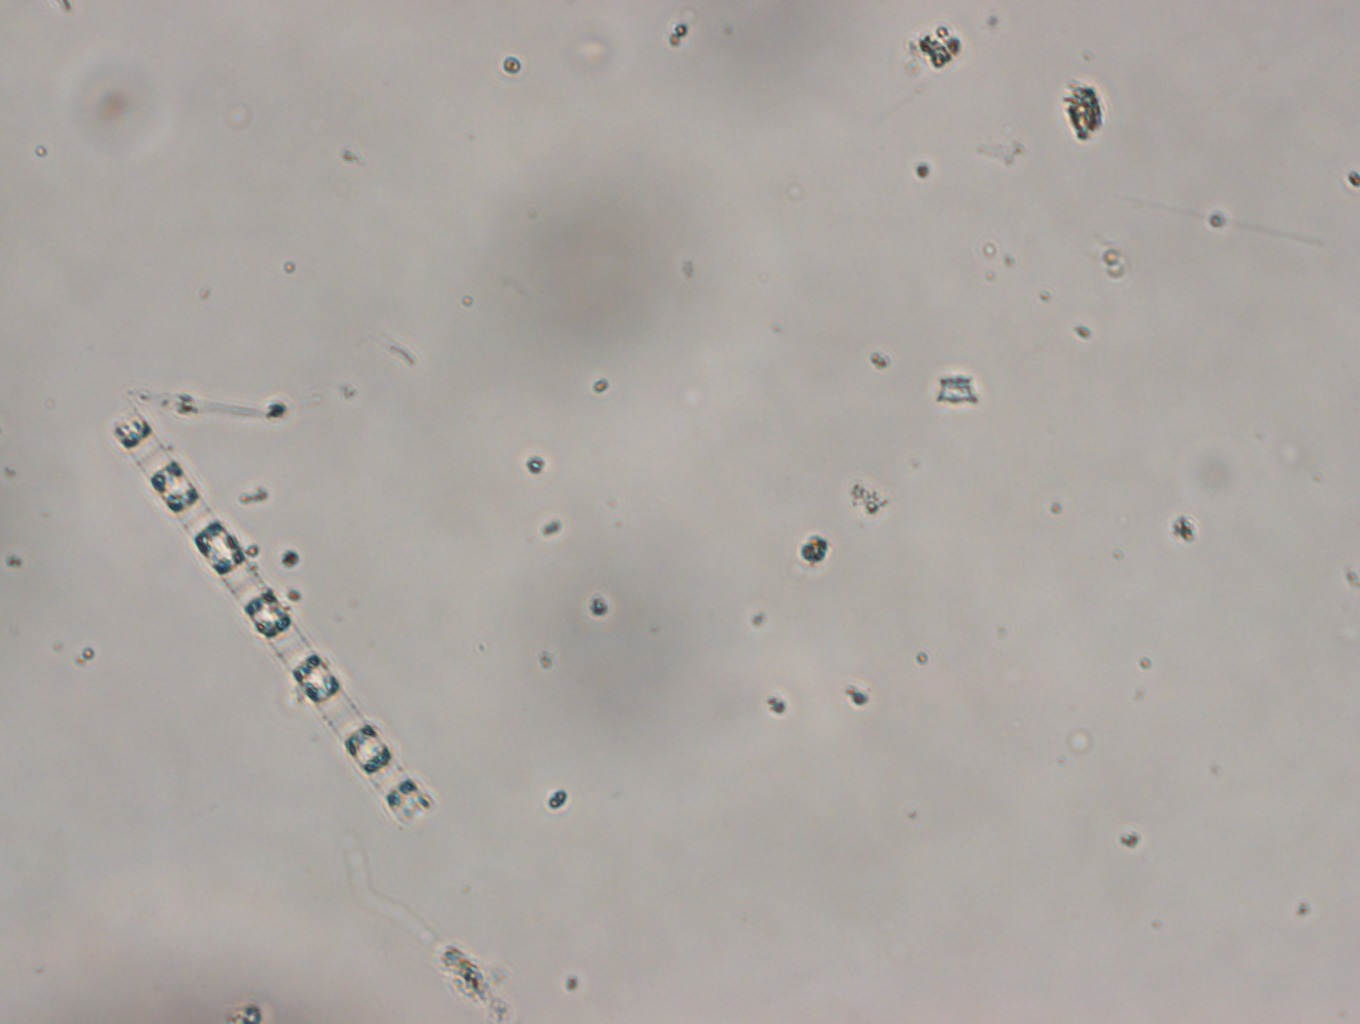skeletonema: (110, 403, 420, 821)
